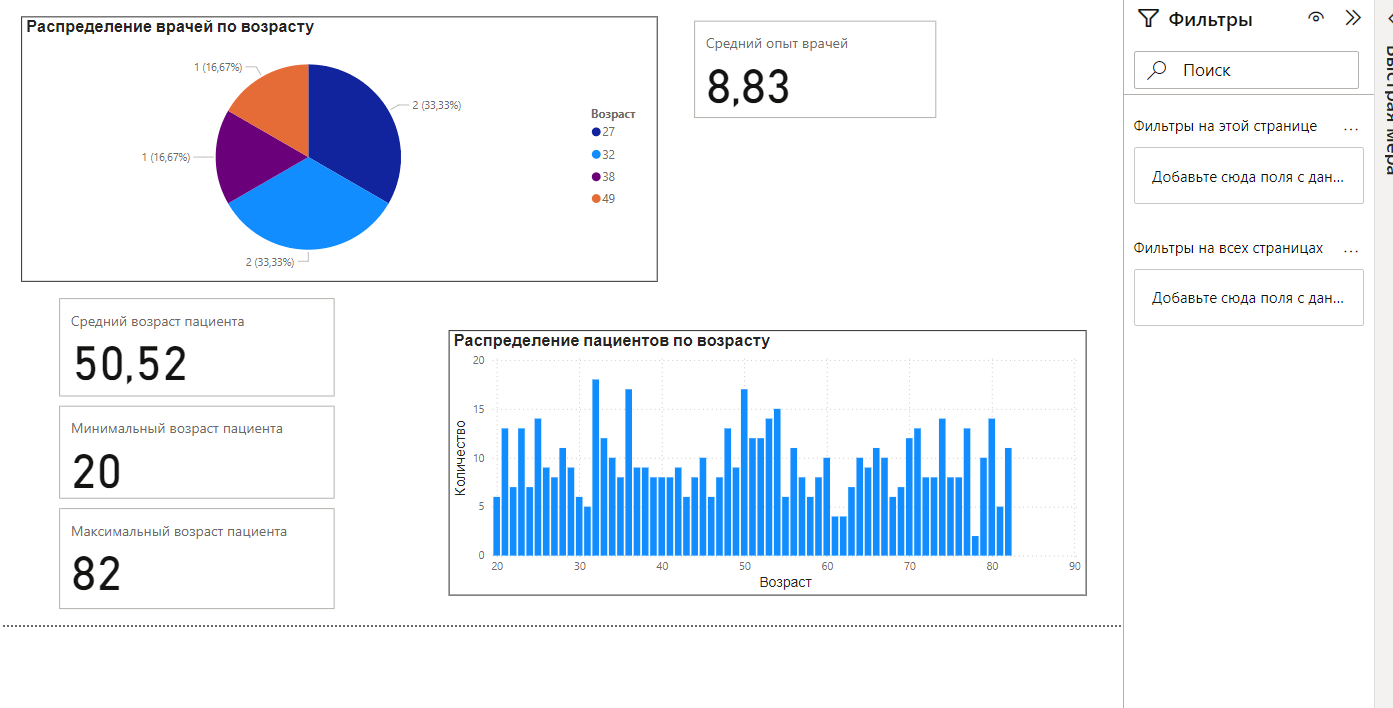

The dashboard page shown, as its layout file describes it:
{"tool":"powerbi","page":{"name":"Страница 2","canvas":[1280,720],"ordinal":1},"visuals":[{"type":"pieChart","title":"Распределение врачей по возрасту","fields":{"Category":["doctors.age"],"Y":["doctors.name"]},"box":[24.2,25.7,725.5,302.2],"z":1},{"type":"columnChart","title":"Распределение пациентов по возрасту","fields":{"Category":["patients.age"],"Y":["patients.id"]},"box":[511.7,383.4,726.9,302.2],"z":2},{"type":"cardVisual","fields":{"Data":["doctors.experience"]},"box":[786.8,25.7,286.5,121.2],"z":3},{"type":"cardVisual","fields":{"Data":["patients.age"]},"box":[62.7,581.6,325,125.4],"z":4},{"type":"cardVisual","fields":{"Data":["patients.age"]},"box":[62.7,464.7,325,116.9],"z":5},{"type":"cardVisual","fields":{"Data":["patients.age"]},"box":[62.7,342.1,325,122.6],"z":6}]}

Visuals, with their boxes on the page's 1280x720 design canvas (x1, y1, x2, y2). These are canvas units, not pixel positions in the 1393x708 screenshot, which may show the page scaled, cropped or inside an application window:
"Распределение врачей по возрасту" pieChart: bbox=(24, 26, 750, 328)
"Распределение пациентов по возрасту" columnChart: bbox=(512, 383, 1239, 686)
cardVisual - doctors.experience: bbox=(787, 26, 1073, 147)
cardVisual - patients.age: bbox=(63, 582, 388, 707)
cardVisual - patients.age: bbox=(63, 465, 388, 582)
cardVisual - patients.age: bbox=(63, 342, 388, 465)
